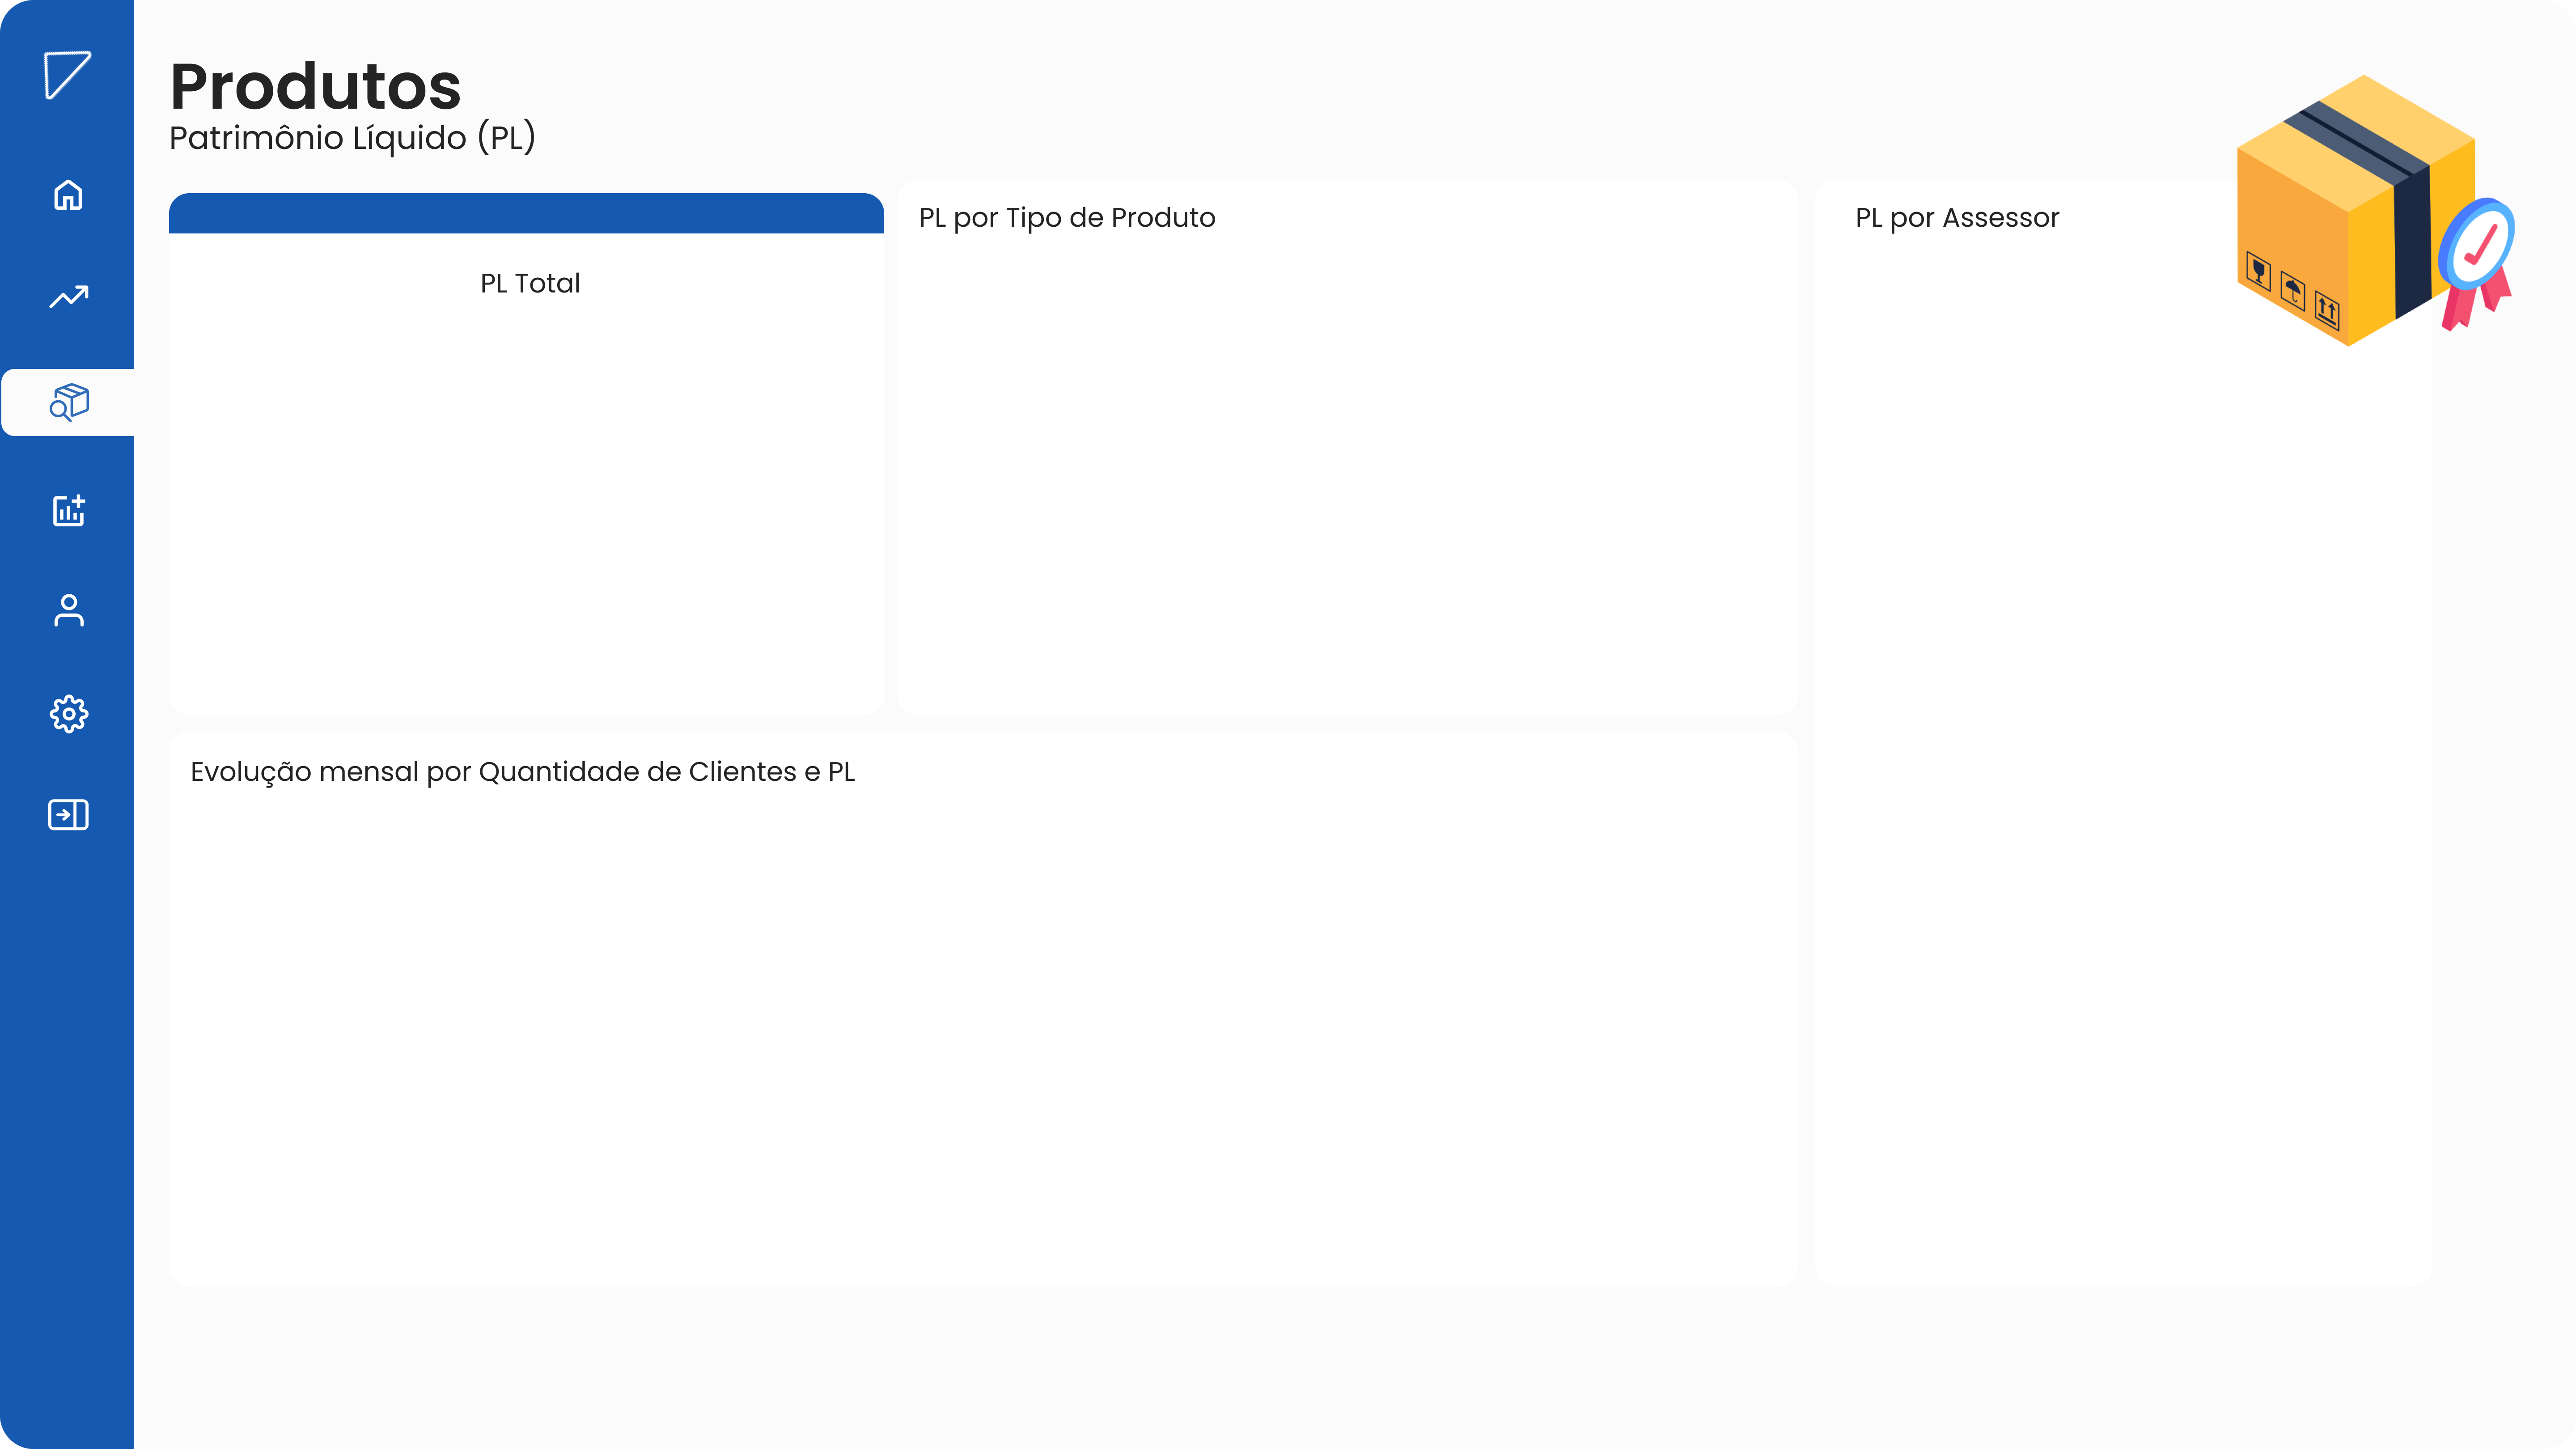

Layout of this report page (visuals, bound fields, positions):
{"tool":"powerbi","page":{"name":"Produtos","canvas":[1280,720],"ordinal":1},"visuals":[{"type":"cardVisual","fields":{"Data":["PL_Combinado.PL Total"]},"box":[163,165,210,150],"z":0},{"type":"barChart","fields":{"Category":["PL_Combinado.Tipo de Produto"],"Y":["PL_Combinado.PL Total"]},"box":[453,129,436,222],"z":1000},{"type":"columnChart","fields":{"Category":["Clientes.Assessor"],"Y":["PL_Combinado.PL Total"]},"box":[906,179,288,443],"z":2000},{"type":"clusteredColumnChart","fields":{"Category":["PL_Combinado.Data.Variation.Hierarquia de datas.Ano","PL_Combinado.Data.Variation.Hierarquia de datas.Trimestre","PL_Combinado.Data.Variation.Hierarquia de datas.Mês","PL_Combinado.Data.Variation.Hierarquia de datas.Dia"],"Y":["PL_Combinado.PL Total","Clientes.Quantidade de Clientes"]},"box":[100,401,782,221],"z":3000}]}

Visuals, with their boxes on the page's 1280x720 design canvas (x1, y1, x2, y2). These are canvas units, not pixel positions in the 2576x1449 screenshot, which may show the page scaled, cropped or inside an application window:
cardVisual - PL_Combinado.PL Total: BBox(163, 165, 373, 315)
barChart - PL_Combinado.Tipo de Produto x PL_Combinado.PL Total: BBox(453, 129, 889, 351)
columnChart - Clientes.Assessor x PL_Combinado.PL Total: BBox(906, 179, 1194, 622)
clusteredColumnChart - PL_Combinado.Data.Variation.Hierarquia de datas.Ano x PL_Combinado.Data.Variation.Hierarquia de datas.Trimestre: BBox(100, 401, 882, 622)
